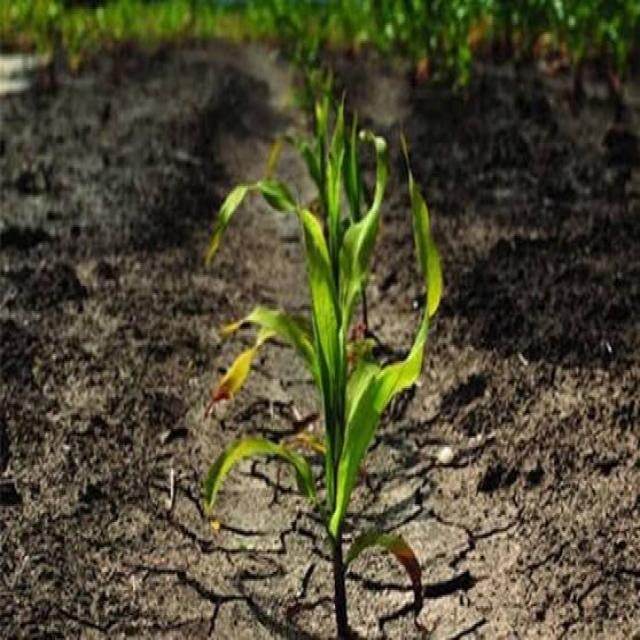suelo_humedo: (59, 77, 566, 572)
